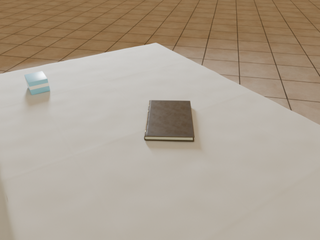book: (144, 100, 194, 141)
box: (24, 71, 50, 95)
